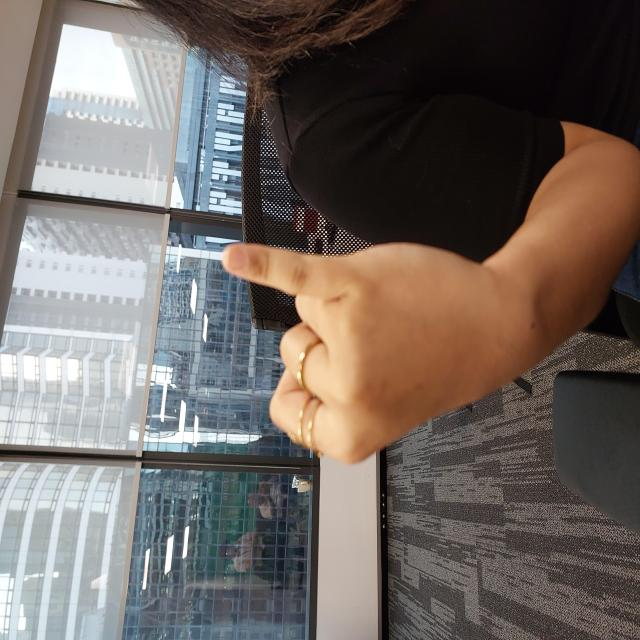J: (172, 219, 403, 516)
